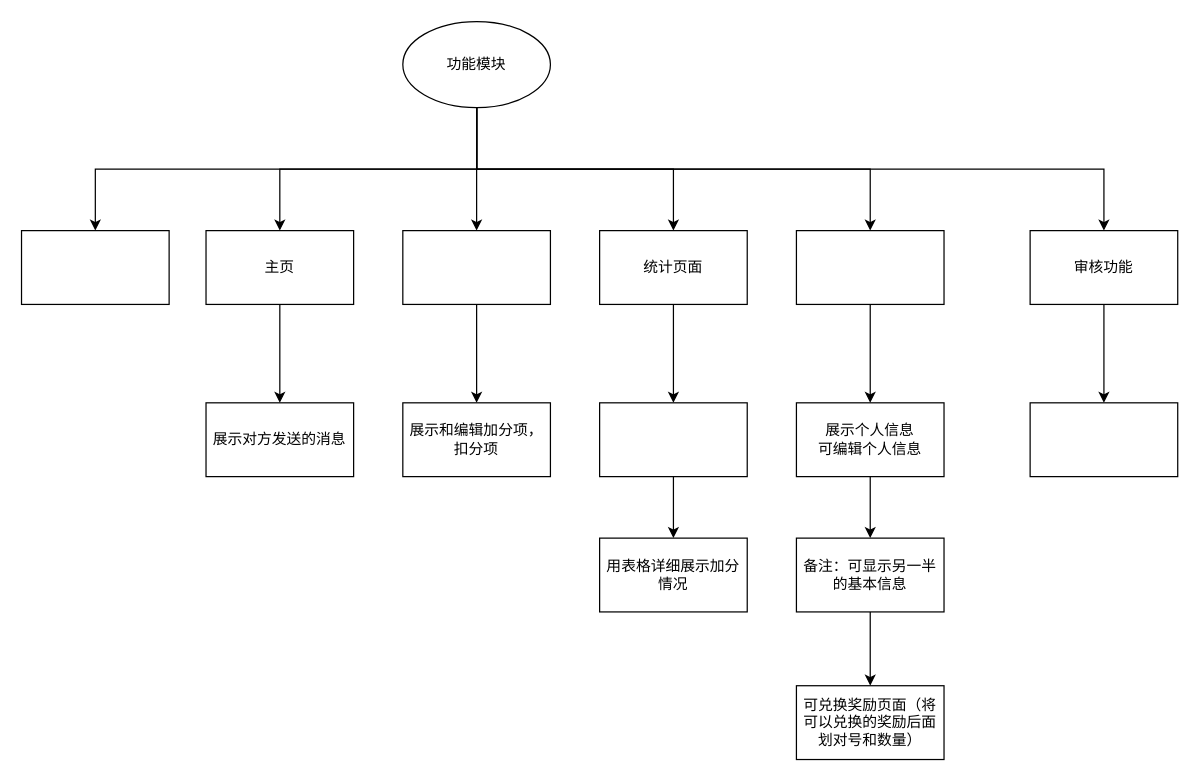
Image size: 1199x781. Some labels were removed from this diagram. The centre of each missing label's shape, as x and y in pixels:
"个人中心" belongs at pixel 869 266.
"加分情况需要对方审核" belongs at pixel 1103 439.
"注册登录" belongs at pixel 94 266.
"用图标可视化最近加分情况（折线图，柱状图，饼图）" belongs at pixel 672 439.
"积分页面" belongs at pixel 476 266.
